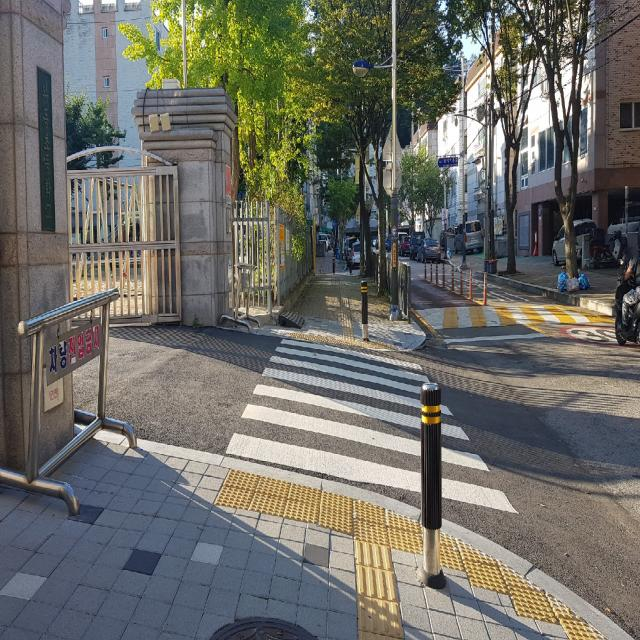횡단보도: (225, 338, 520, 515)
